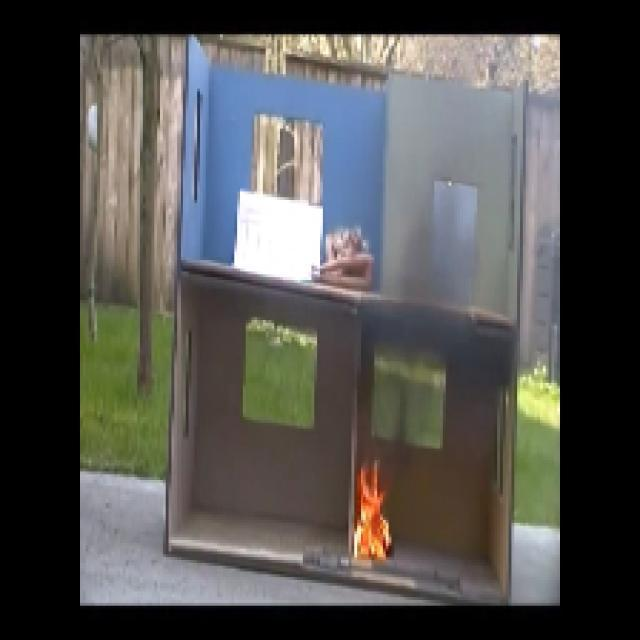Fire: (354, 462, 392, 554)
